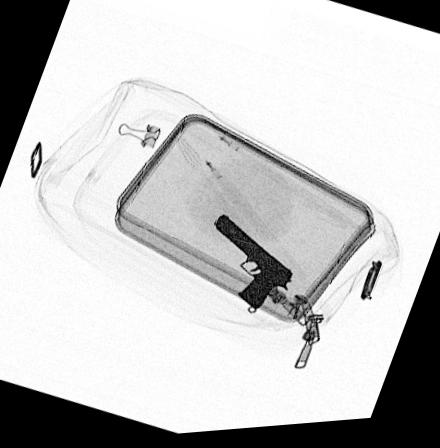Gun: (213, 216, 293, 312)
